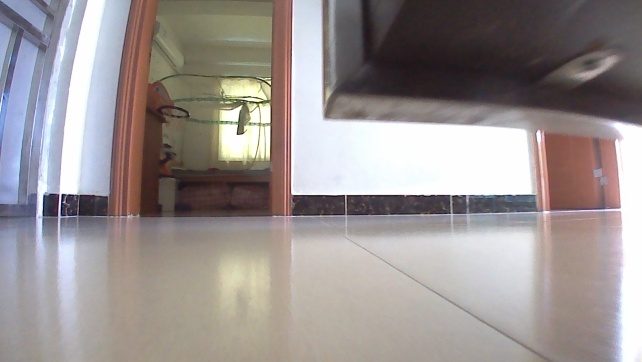bed1: (160, 163, 272, 210)
